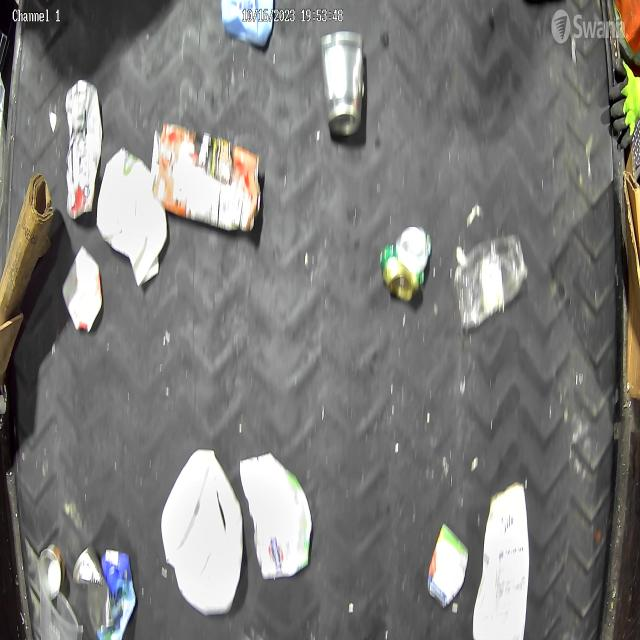can: (318, 21, 374, 142), (62, 530, 112, 640), (374, 221, 431, 314), (32, 534, 67, 606)
milk_jug: (156, 446, 245, 620), (95, 150, 169, 301)
